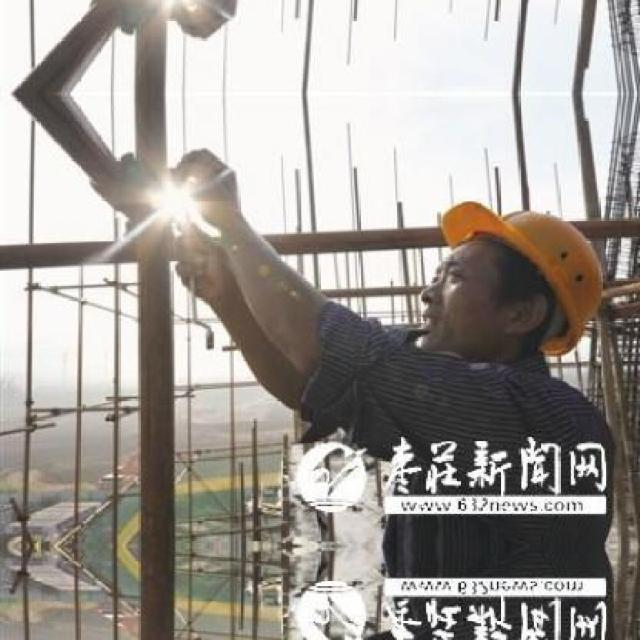helmet: (406, 190, 612, 370)
